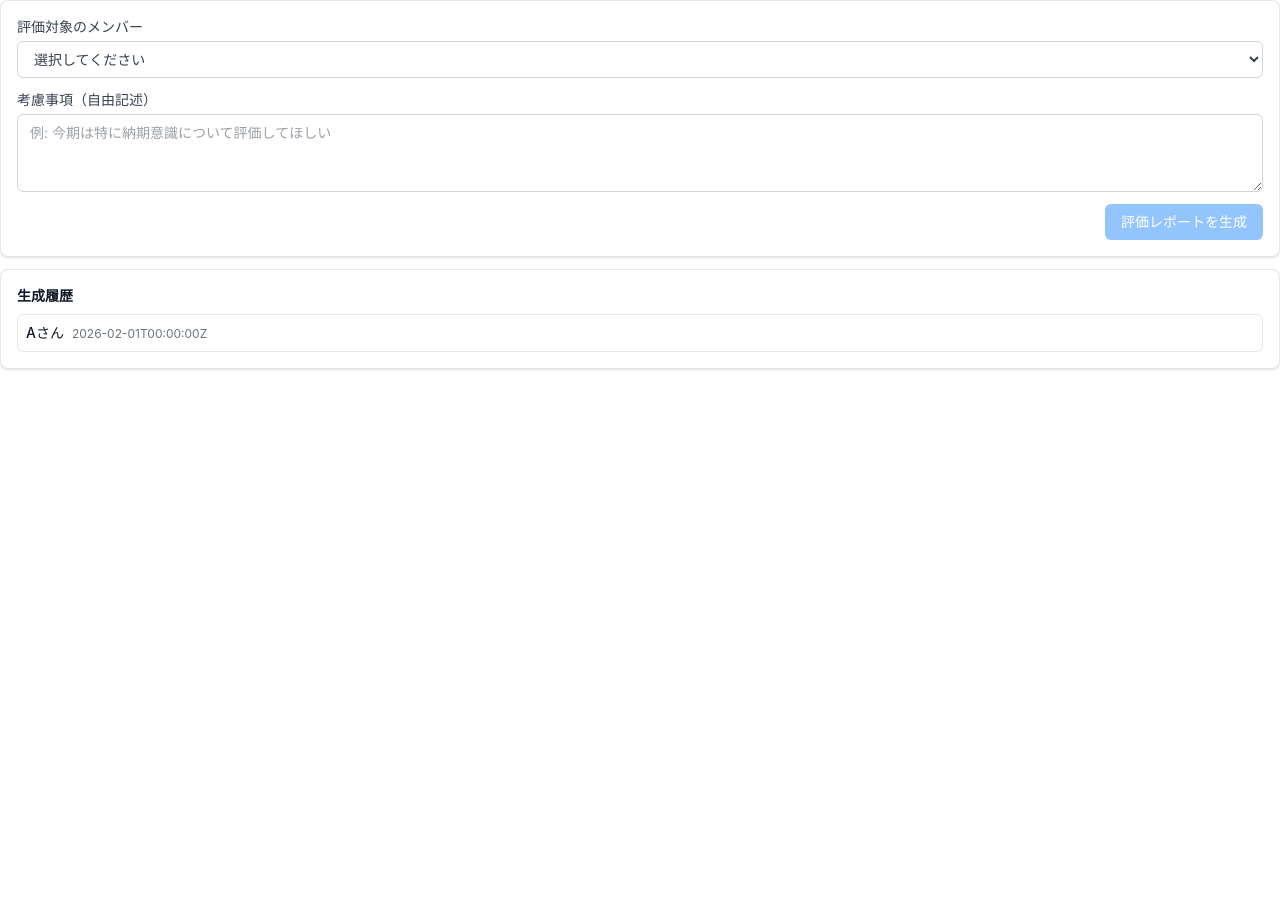
it: WorkEvaluationReportTab › loads a history entry into the review card on click
The image size is (1280, 900).
Click the button "Aさん2026-02-01T00:00:00Z": (45, 332) x1=17 y1=314 x2=1263 y2=352
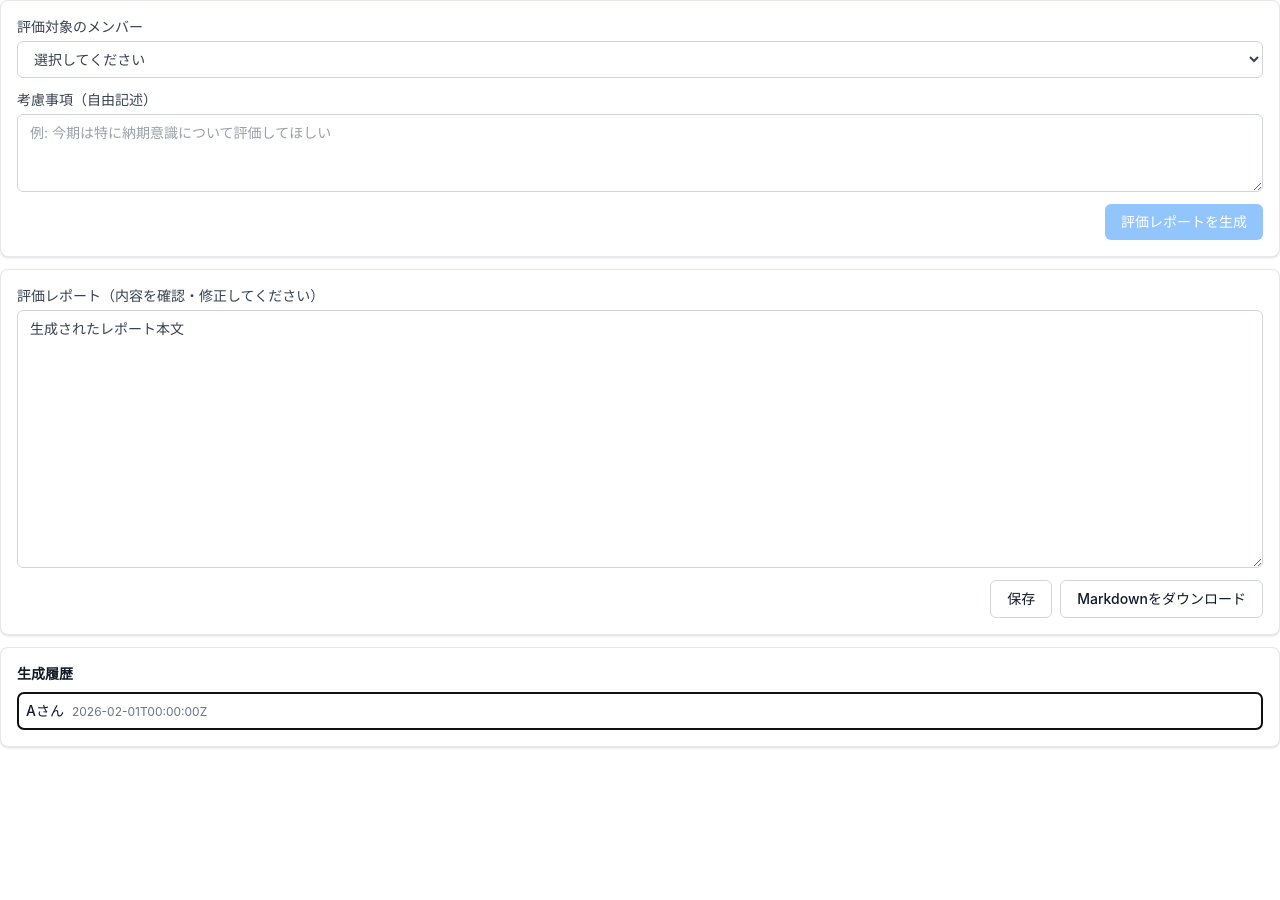
Expected: the text box showing "生成されたレポート本文" is shown, x1=17 y1=310 x2=1263 y2=568
